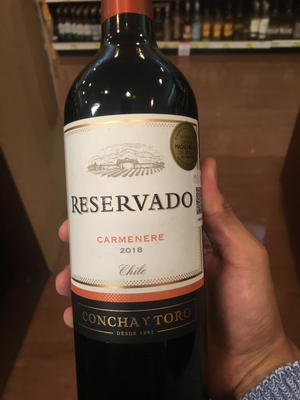reservado carmenere: (60, 8, 204, 400)
